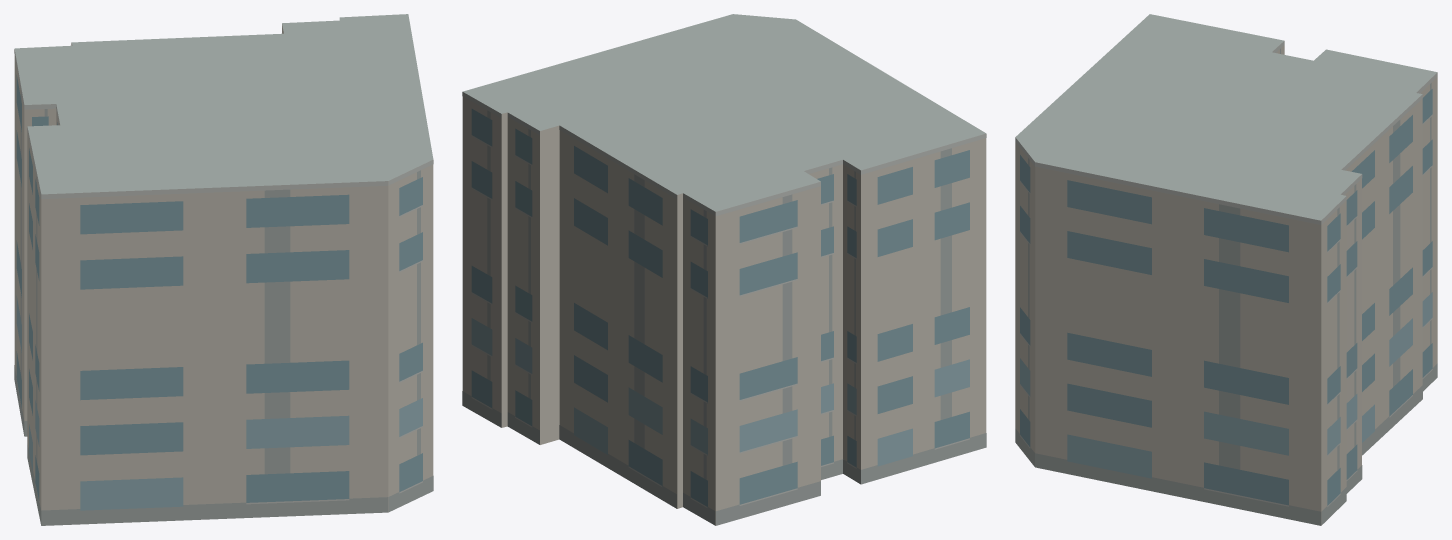
Rendered from survey-upis-32511824.glb.
The picture shows the model from 3 angles, left to right: view 1: azimuth 30°, elevation 25°; view 2: azimuth 150°, elevation 25°; view 3: azimuth 270°, elevation 25°; orthographic projection. The views are drawn at different scales.
Visible parts, largest first — view 1: survey-upis-32511824.tmp; view 2: survey-upis-32511824.tmp; view 3: survey-upis-32511824.tmp.
Boxes of the visible parts, bbox=[...] form: survey-upis-32511824.tmp: bbox=[14, 14, 433, 525]; survey-upis-32511824.tmp: bbox=[462, 14, 986, 525]; survey-upis-32511824.tmp: bbox=[1015, 14, 1437, 525].
Bounding box in the file's own units: 24.7 × 17 × 21.33.
